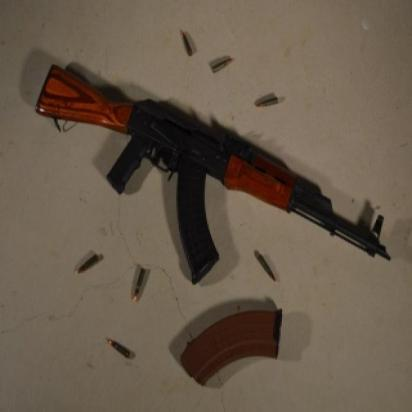Gun: (31, 57, 390, 280)
